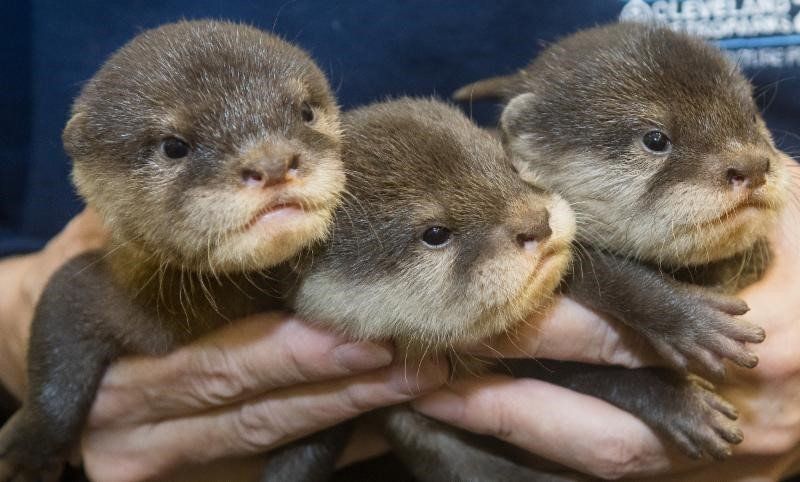otter: (55, 14, 355, 379), (480, 11, 800, 351)
